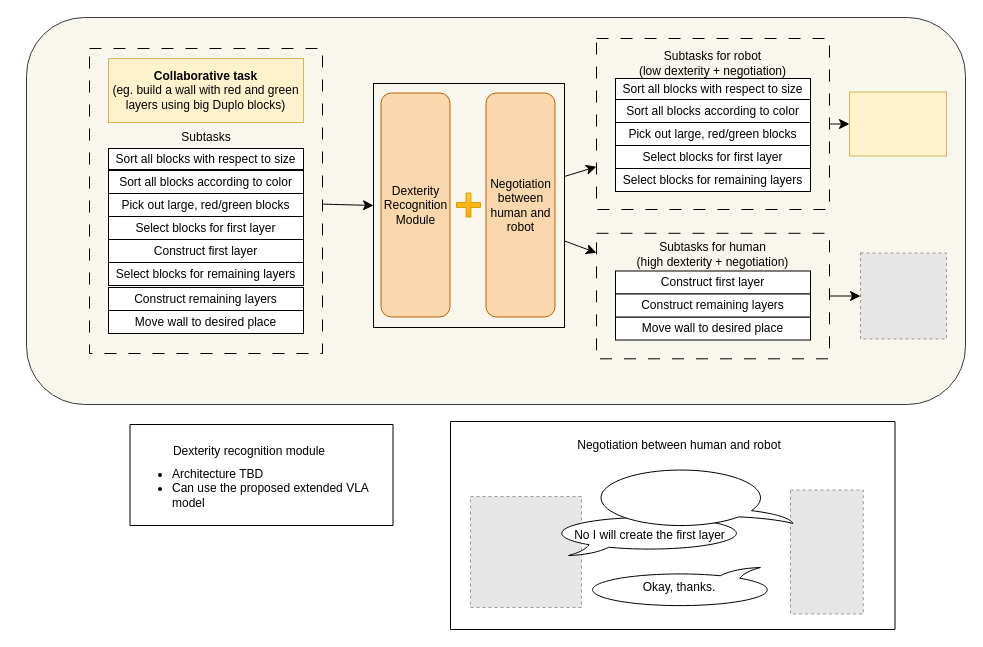
Image size: 983x647. Some labels were removed from this diagram. Grey dashed boxes stand in for pictures. Each missing label, with the centre of its shape:
"Extended VLA model on robot" goes at [897,123].
"Should I create the first layer for the wall?" goes at [691,497].
